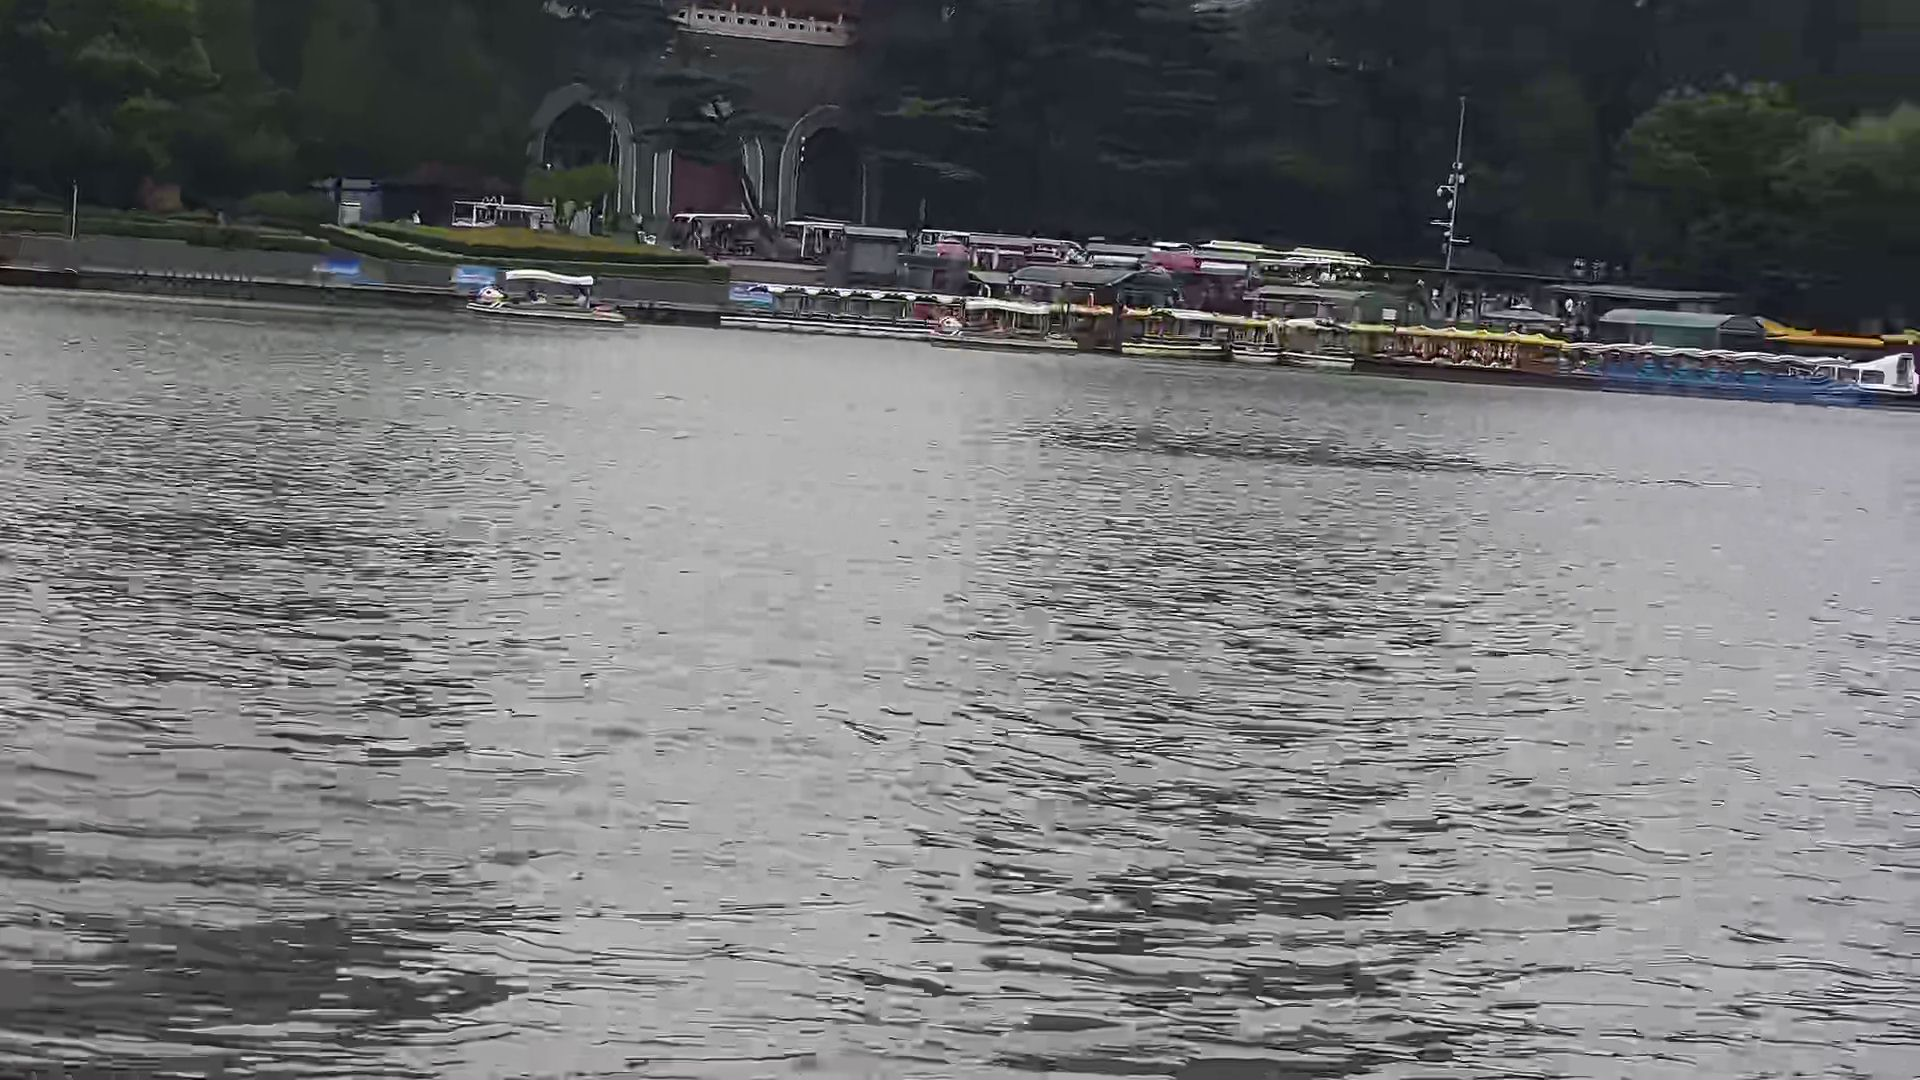boat: (465, 266, 618, 330), (932, 295, 1077, 357)
